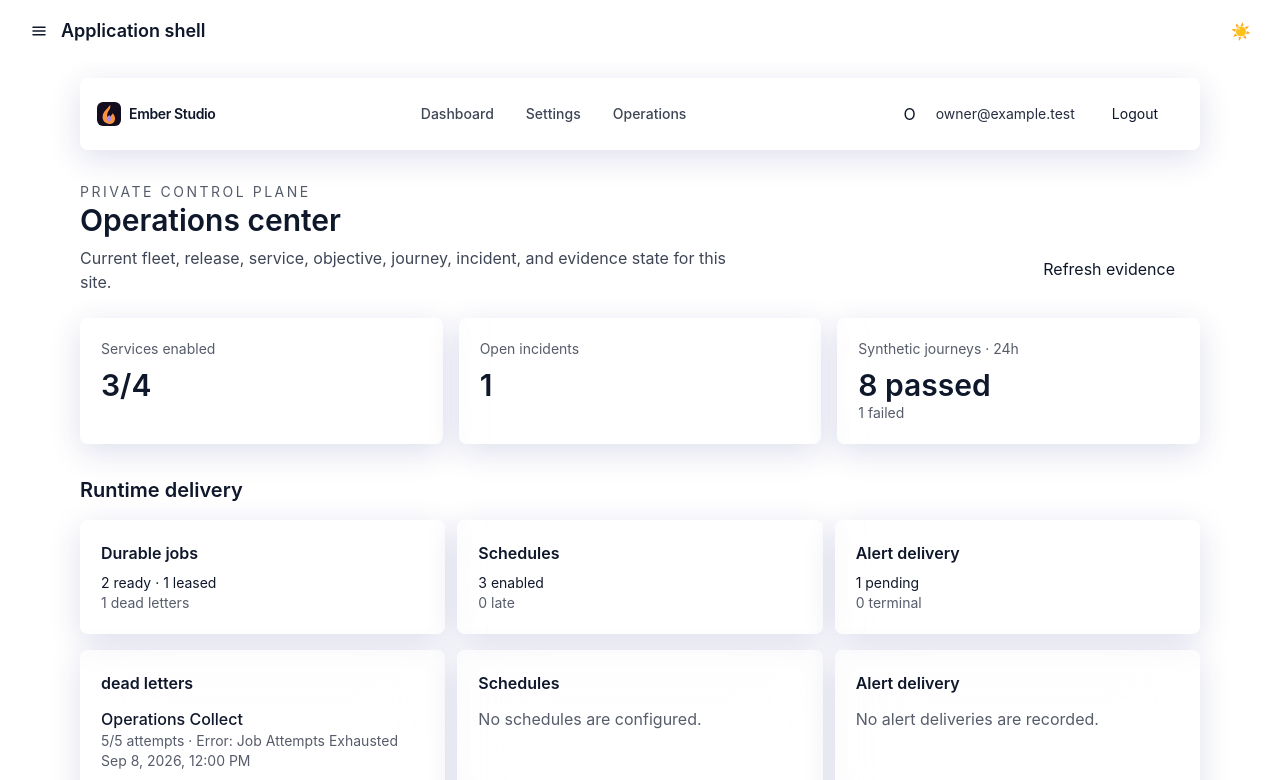
Test: marks retained summary evidence stale after an independent refresh failure
The image size is (1280, 780).
Step 1. Click the button "Refresh evidence" → (1109, 269), box x1=1018 y1=244 x2=1200 y2=294
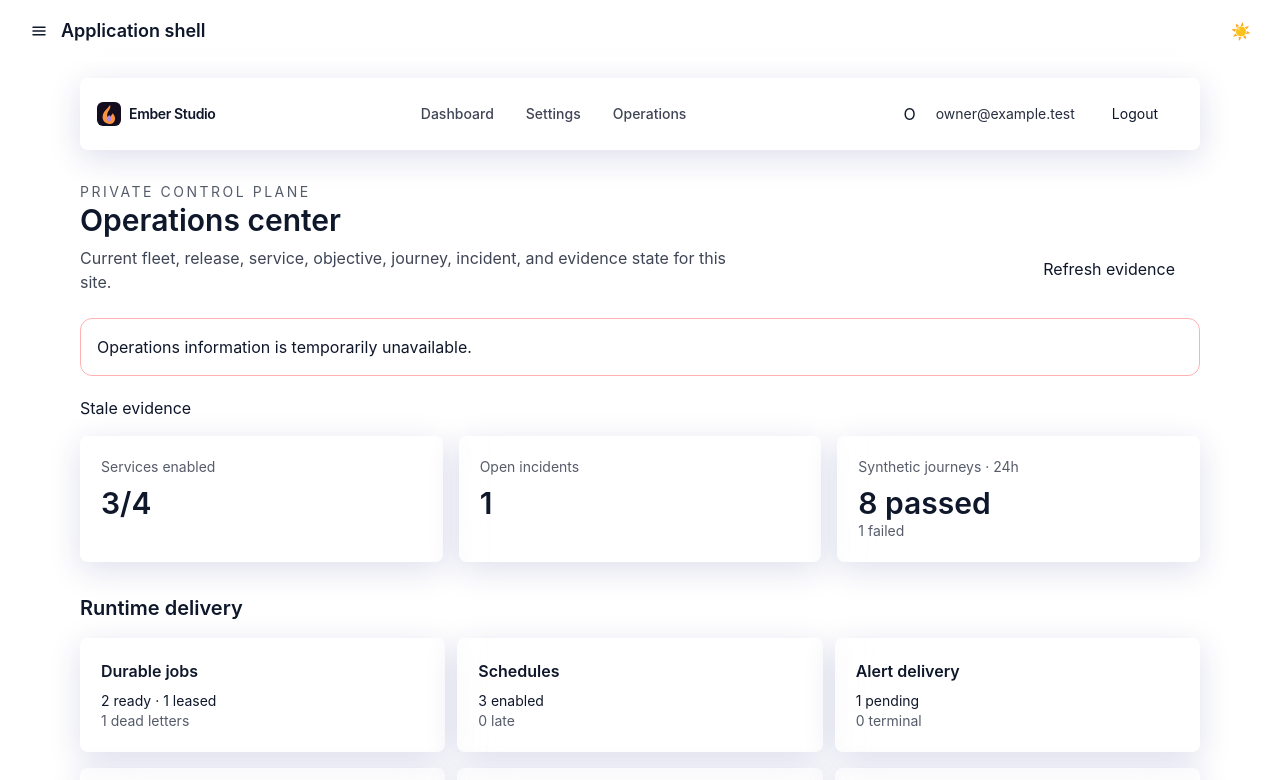
Check: the text "Stale evidence" is shown, box x1=80 y1=398 x2=191 y2=418
